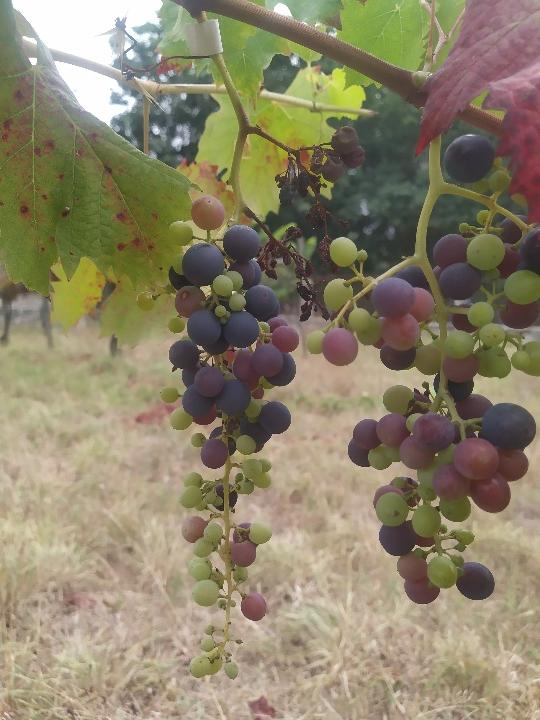grape: (304, 131, 540, 608), (139, 196, 298, 680), (258, 126, 367, 325)
